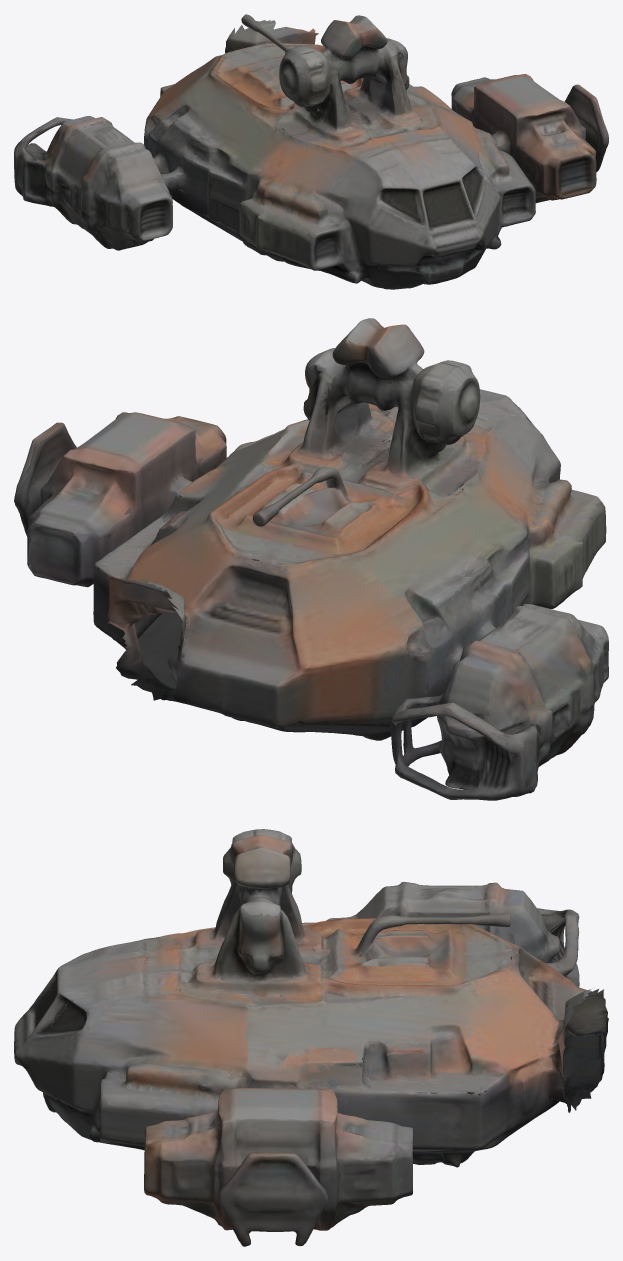
The model's file is catapulta_chatarra.glb.
The picture shows the model from 3 angles, top to bottom: view 1: azimuth 30°, elevation 25°; view 2: azimuth 150°, elevation 25°; view 3: azimuth 270°, elevation 25°; orthographic projection. The views are drawn at different scales.
Visible parts, largest first — view 1: Catapulta_Chatarra; view 2: Catapulta_Chatarra; view 3: Catapulta_Chatarra.
Boxes of the visible parts, bbox=[...] form: Catapulta_Chatarra: bbox=[14, 14, 608, 289]; Catapulta_Chatarra: bbox=[14, 318, 608, 800]; Catapulta_Chatarra: bbox=[14, 829, 608, 1246].
Bounding box in the file's own units: 4.15 × 1.94 × 3.61.
1 material, 1 textured.
